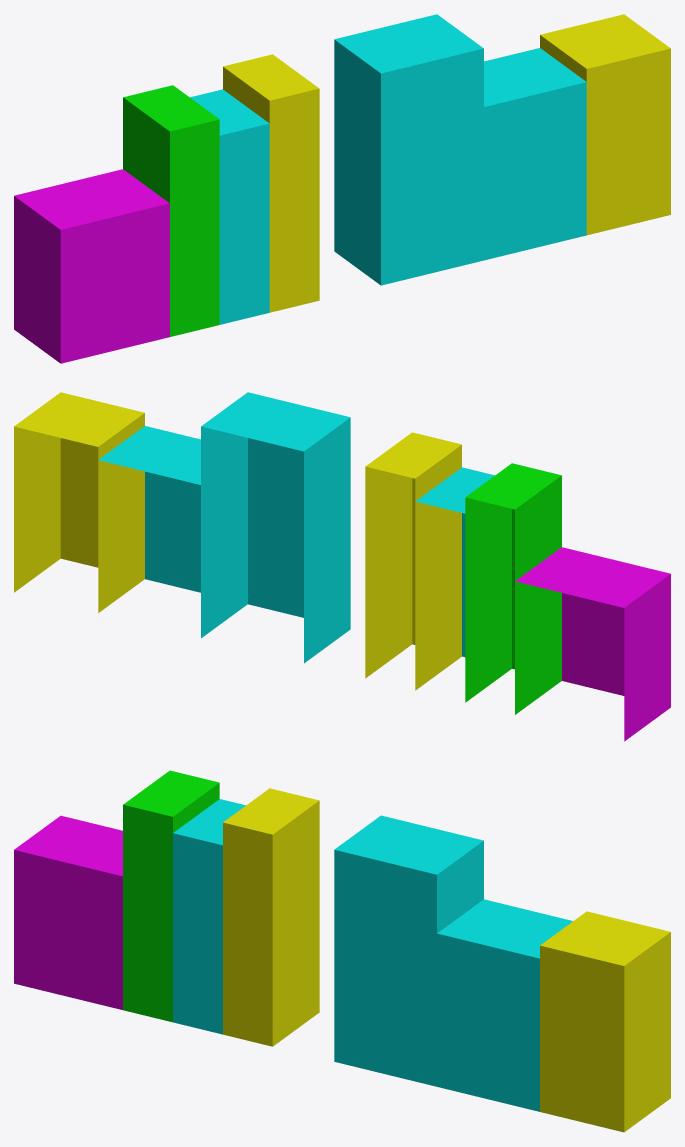
Rendered from MY_BuildingSetTwo.fbx.
3 renders of one model, top to bottom at view 1: azimuth 30°, elevation 25°; view 2: azimuth 150°, elevation 25°; view 3: azimuth 330°, elevation 25°, orthographic.
Parts seen in each view (by area): view 1: Building12, Building8, Building13, Building14, Building9, Building11, Building10; view 2: Building12, Building14, Building11, Building9, Building13, Building8, Building10; view 3: Building12, Building14, Building11, Building13, Building8, Building9, Building10.
Boxes of the visible parts, x1,y1,x2,y2 form: Building12: [334, 14, 483, 285]; Building8: [14, 169, 169, 363]; Building13: [484, 48, 586, 260]; Building14: [540, 14, 670, 235]; Building9: [123, 85, 219, 336]; Building11: [223, 54, 319, 312]; Building10: [190, 89, 269, 324]; Building12: [201, 392, 350, 663]; Building14: [14, 392, 144, 612]; Building11: [365, 432, 461, 690]; Building9: [465, 463, 561, 714]; Building13: [98, 426, 247, 638]; Building8: [515, 547, 670, 741]; Building10: [415, 467, 494, 656]; Building12: [334, 815, 483, 1086]; Building14: [540, 911, 670, 1132]; Building11: [223, 788, 319, 1046]; Building13: [437, 899, 572, 1111]; Building8: [14, 815, 122, 1009]; Building9: [123, 770, 219, 1022]; Building10: [173, 799, 245, 1034].
Size of the model in its own units: 196 by 65 by 26.
